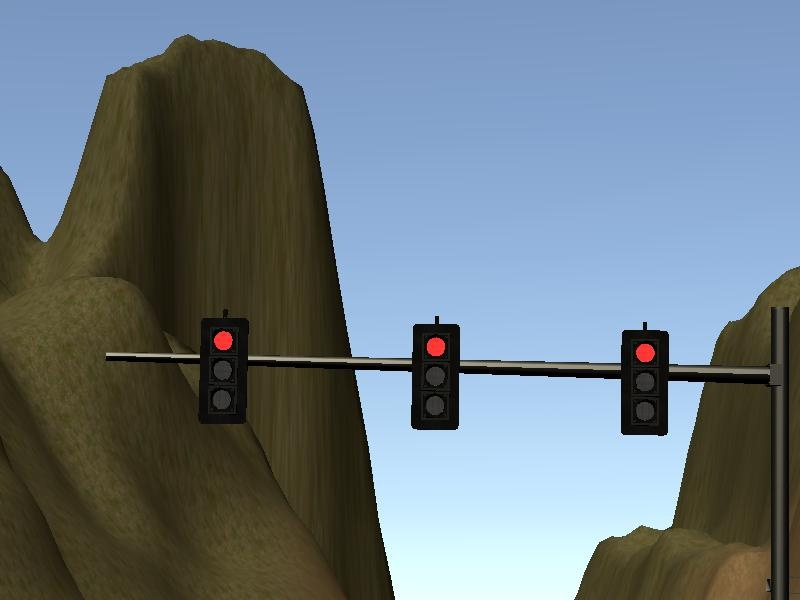red: (617, 329, 669, 439), (408, 319, 460, 429), (197, 316, 249, 426)
